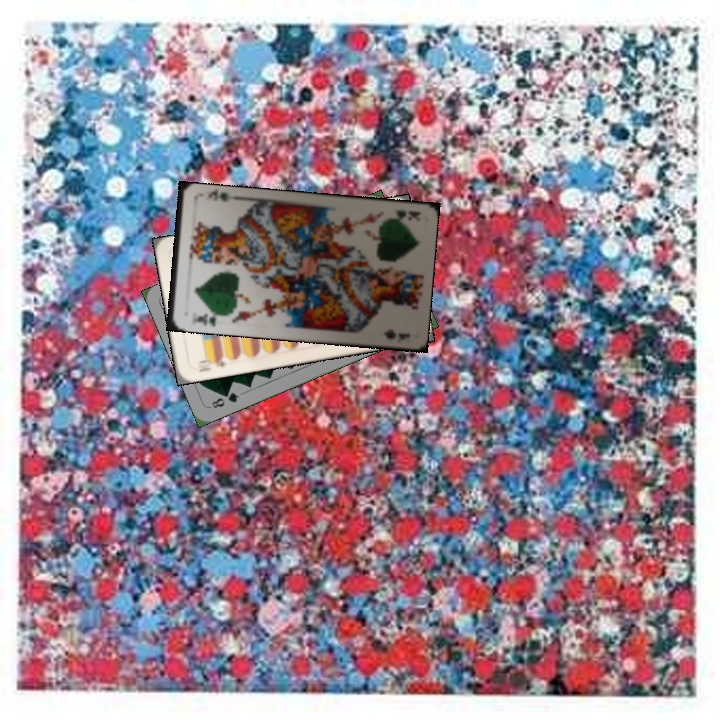E10: (194, 352, 230, 375)
G8: (207, 388, 242, 411)
GK: (191, 309, 224, 328), (393, 206, 422, 224)
